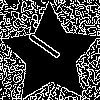I: (25, 30, 70, 67)
